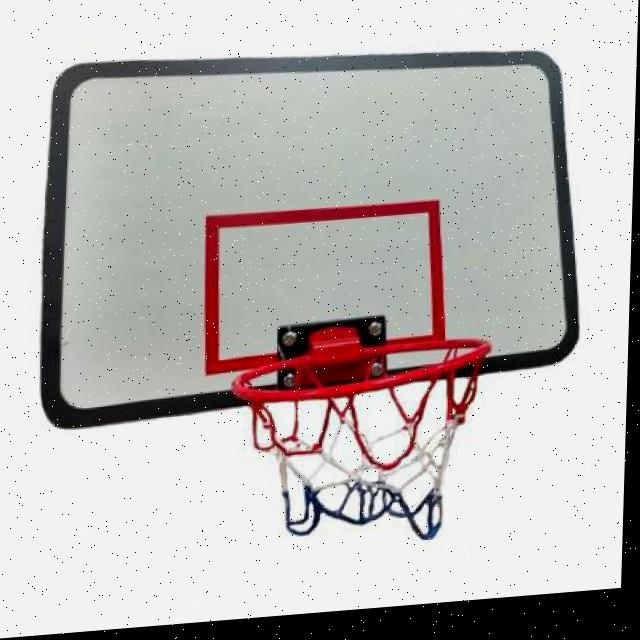hoop: (226, 337, 491, 556)
